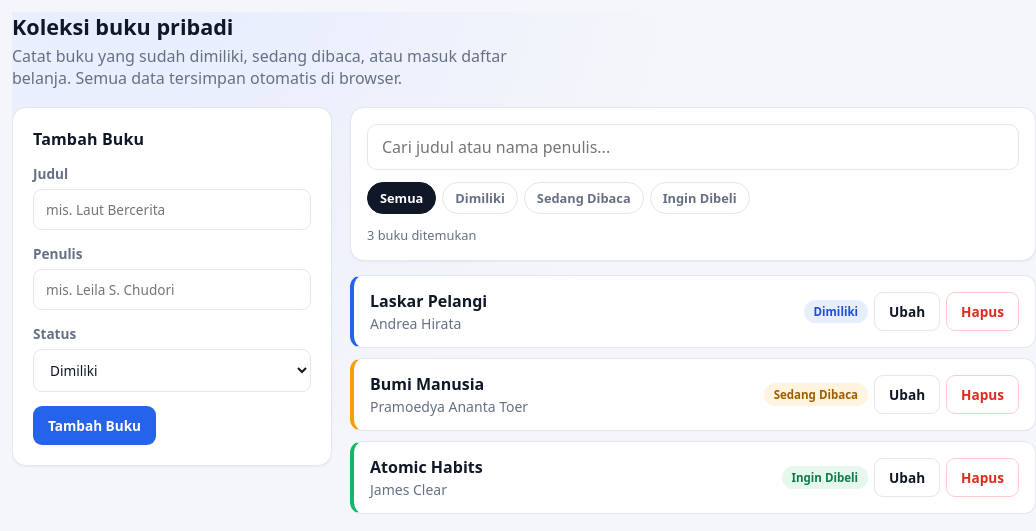
Scenario: Home › menghapus buku setelah konfirmasi
The image size is (1036, 531).
What coordinates should you click on to do the following:
click the button "Hapus" in the row of "Laskar Pelangi"
I would click on:
 (983, 312)
Its box is [946, 292, 1019, 331].
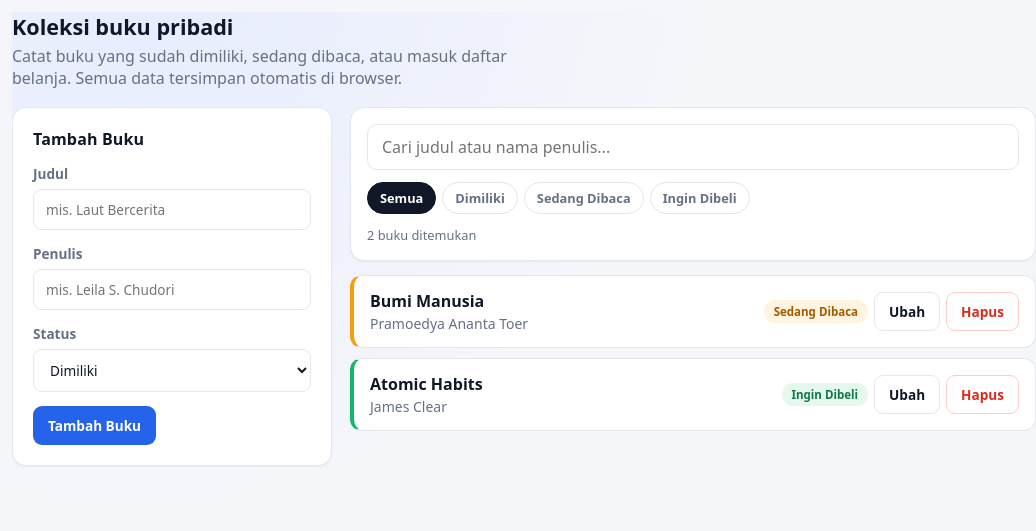
Now the heading "Laskar Pelangi" is gone
Now the number of list items is 2, box [350, 275, 1035, 348]; [350, 358, 1035, 431]
